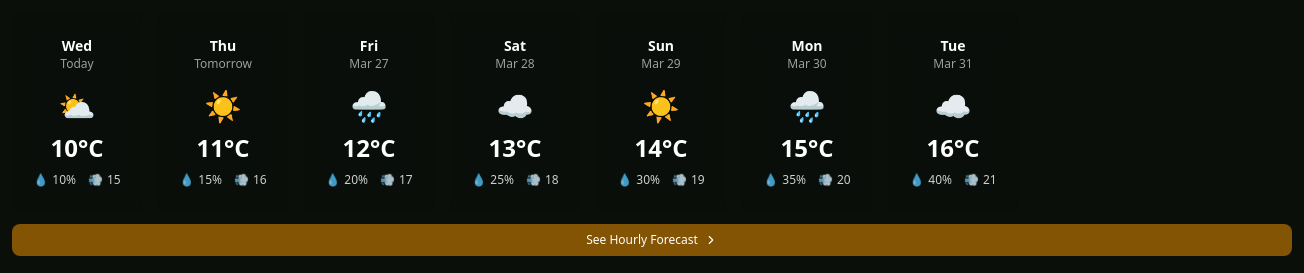
Test case: WeatherForecast › expand/collapse functionality › clicking collapse returns to daily view
Step 1. Click the button with test id "forecast-expand-button" → (652, 240), box [12,224,1292,256]
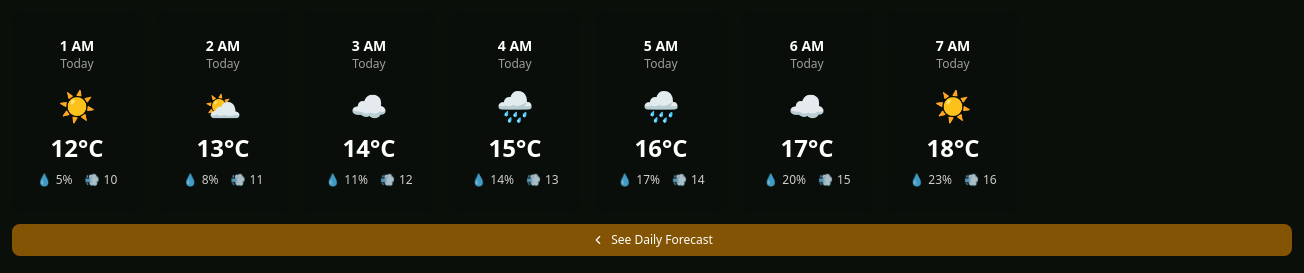
Check: the number of buttons with test id "weather-hour-card" is 7
Check: no buttons with test id "weather-day-card" are shown
Step 2. Click the button with test id "forecast-collapse-button" → (652, 240), box [12,224,1292,256]
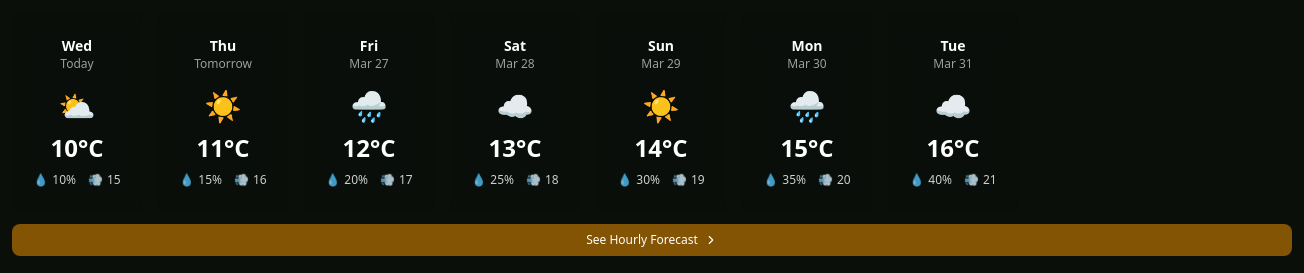
Check: the number of buttons with test id "weather-day-card" is 7
Check: no buttons with test id "weather-hour-card" are shown
